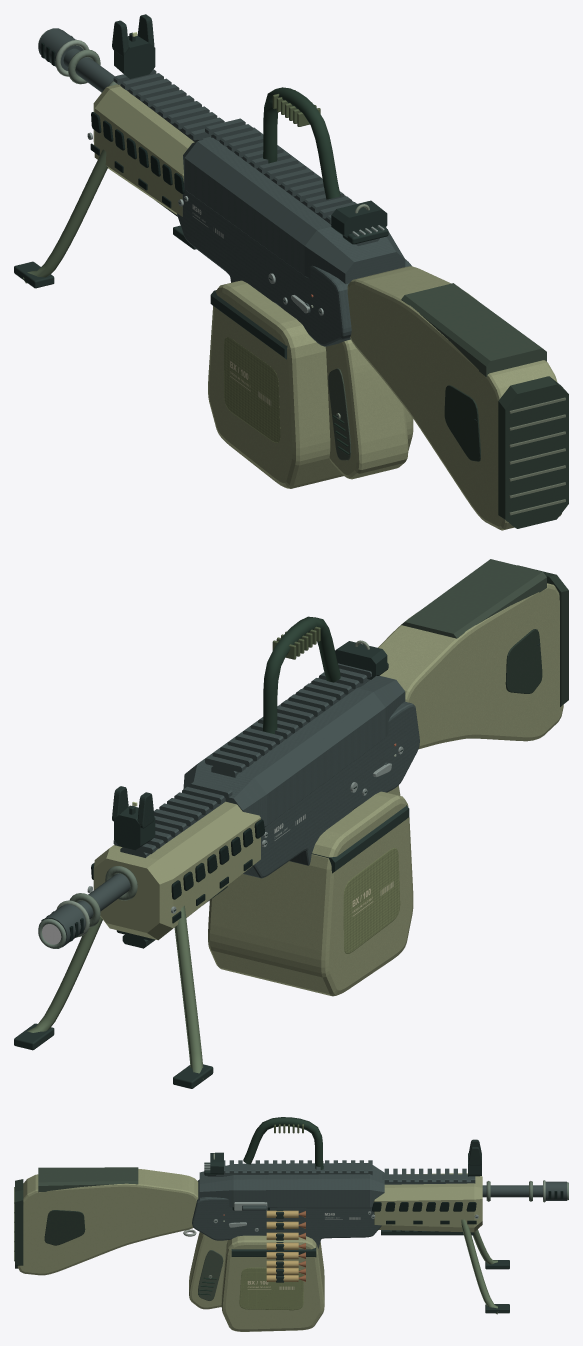
3 views of the same model, one above another, from view 1: azimuth 30°, elevation 25°; view 2: azimuth 150°, elevation 25°; view 3: azimuth 270°, elevation 25° (orthographic). The views are drawn at different scales.
Visible parts, largest first — view 1: m249, magazine, topCover; view 2: m249, magazine, topCover; view 3: m249, magazine, topCover, bolt.
Part boxes in pixels (bbox=[...]): m249: bbox=[14, 14, 568, 530]; magazine: bbox=[208, 280, 413, 488]; topCover: bbox=[183, 127, 405, 284]; m249: bbox=[14, 559, 568, 1088]; magazine: bbox=[208, 791, 413, 996]; topCover: bbox=[183, 675, 405, 826]; m249: bbox=[14, 1117, 568, 1314]; magazine: bbox=[221, 1210, 324, 1331]; topCover: bbox=[199, 1163, 384, 1208]; bolt: bbox=[234, 1202, 267, 1210].
Size of the model in its own units: 0.3571 by 0.6578 by 1.67.
Materials: 31 (18 with a texture image).
